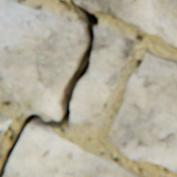brick: (107, 51, 176, 171), (4, 122, 144, 176), (74, 0, 176, 45), (0, 111, 12, 155)
broken_brick: (0, 0, 89, 119), (70, 24, 134, 124)
crack: (0, 0, 98, 176)
